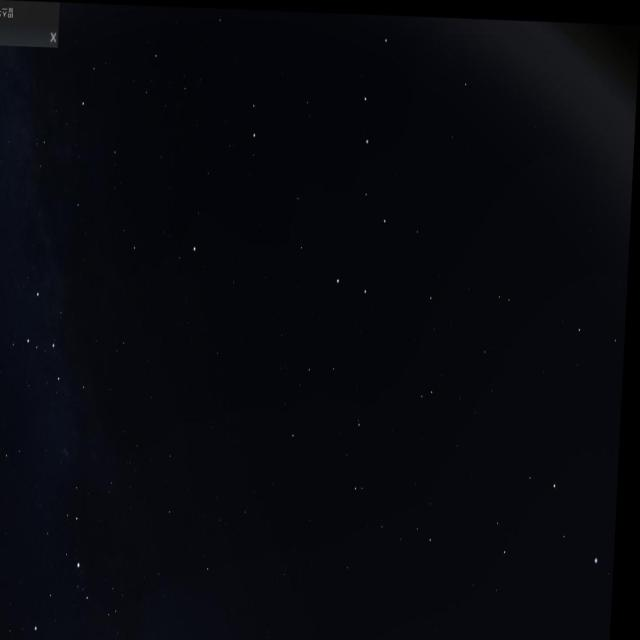ursa_major: (324, 29, 419, 310)
